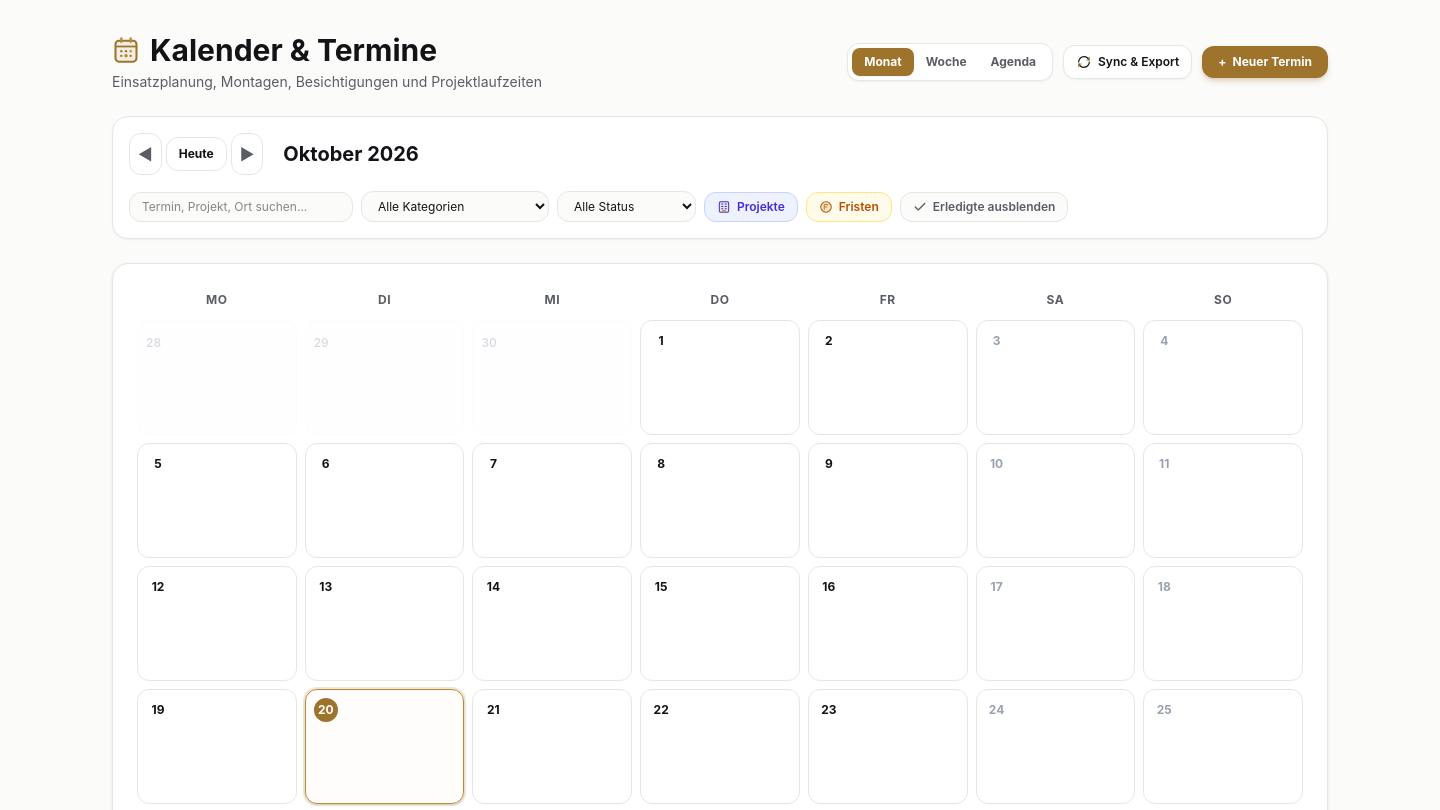
KalenderView › opens appointment creation modal on "+ Neuer Termin" click
Check: the text "Kalender & Termine" is shown, box [150,32,437,68]
Click the button "+ Neuer Termin" at (1265, 62), box [1202,46,1328,78]
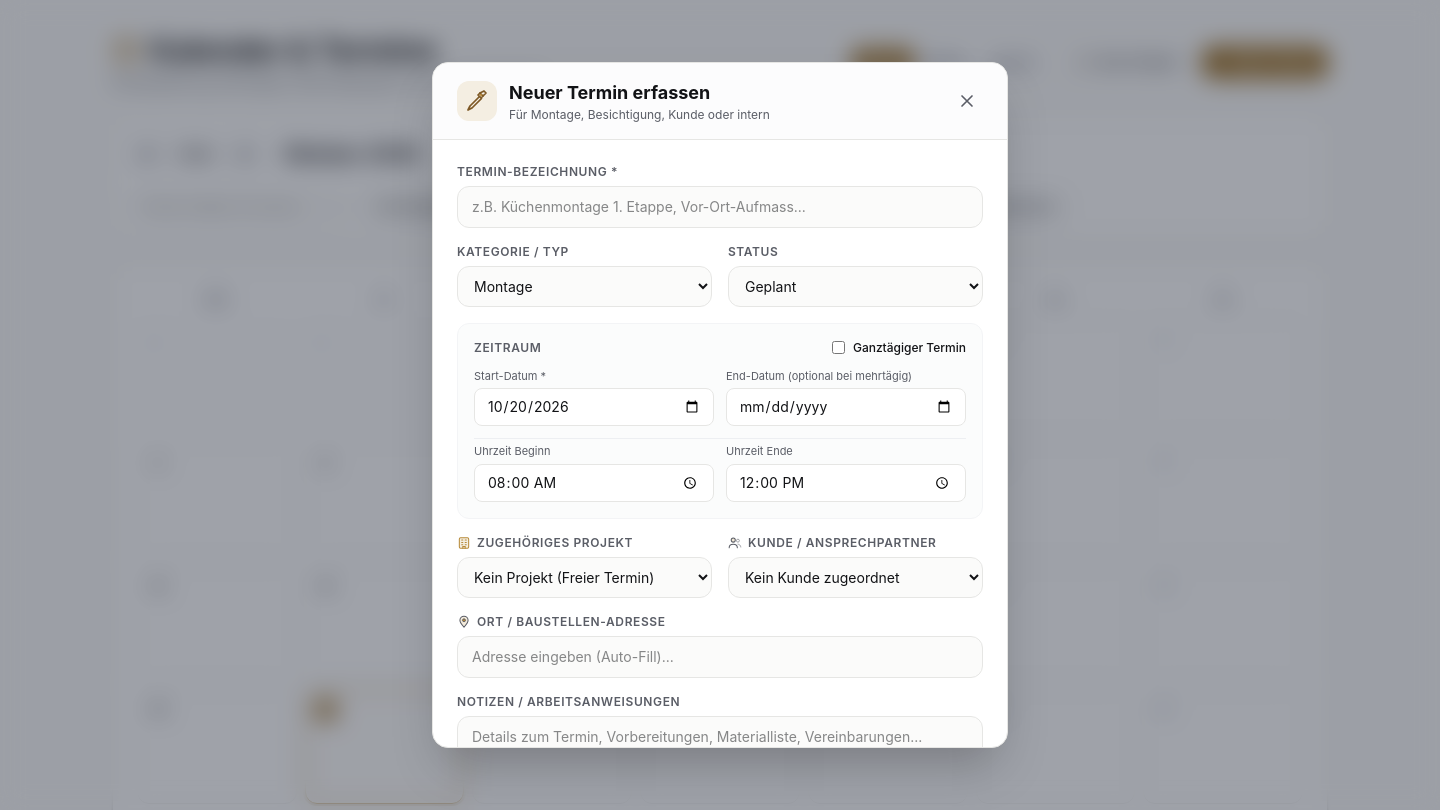
Check: the heading "Neuer Termin erfassen" is shown, box [509,82,710,103]
